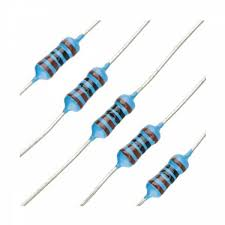resistor: (81, 88, 140, 144), (136, 149, 191, 205), (60, 58, 114, 115), (28, 33, 86, 86), (113, 121, 162, 178)
